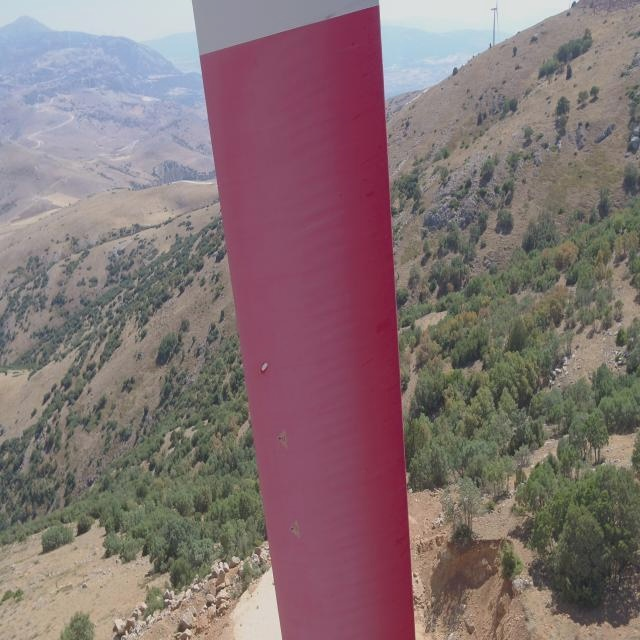Coating_defects: (257, 361, 276, 377)
